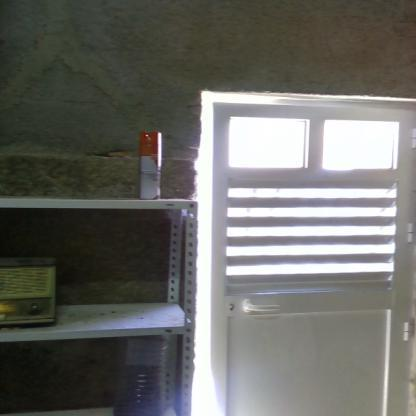door: (213, 102, 412, 416)
hinged: (404, 221, 414, 244), (402, 320, 412, 340), (409, 124, 415, 151)
lever: (242, 302, 283, 314)
